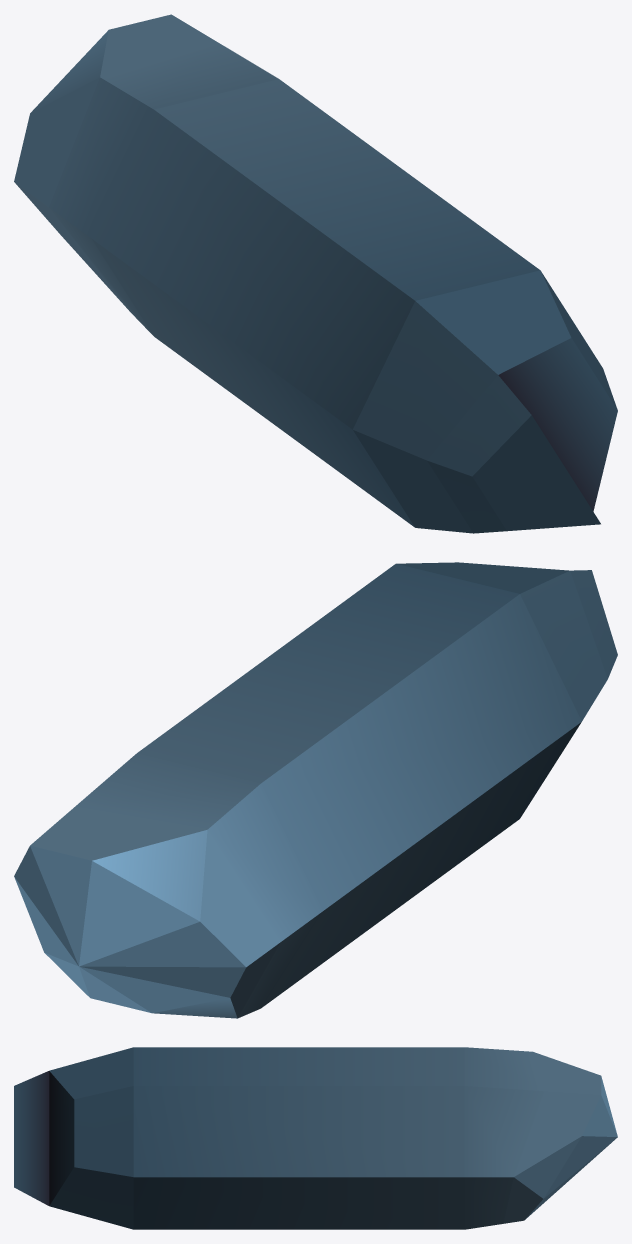
The model's file is IceCrystal.002.glb.
The picture shows the model from 3 angles, top to bottom: view 1: azimuth 30°, elevation 25°; view 2: azimuth 150°, elevation 25°; view 3: azimuth 270°, elevation 25°; orthographic projection. The views are drawn at different scales.
Visible parts, largest first — view 1: IceCrystal.002; view 2: IceCrystal.002; view 3: IceCrystal.002.
Part boxes in pixels (box(x1,y1,x2,y2)): IceCrystal.002: box(14, 14, 617, 533); IceCrystal.002: box(14, 562, 617, 1018); IceCrystal.002: box(14, 1047, 617, 1229).
Bounding box in the file's own units: 221 × 192 × 730.
